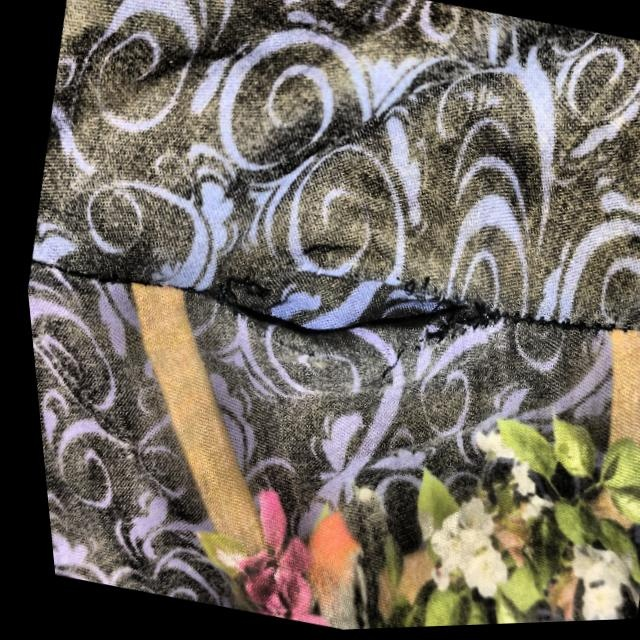seam: (156, 159, 550, 443)
